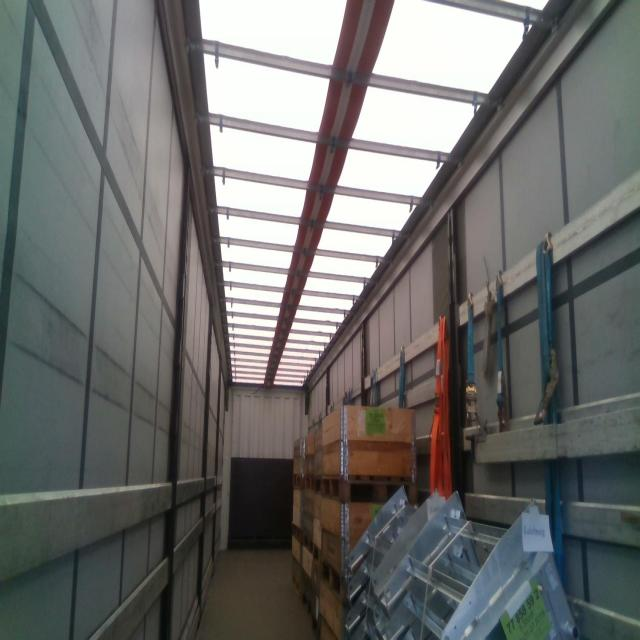pallet: (321, 474, 421, 507), (315, 546, 350, 603), (301, 529, 320, 564), (301, 589, 313, 624), (288, 570, 301, 599), (289, 521, 301, 547), (291, 473, 304, 492), (311, 619, 321, 640), (315, 475, 323, 493), (305, 475, 314, 489)
